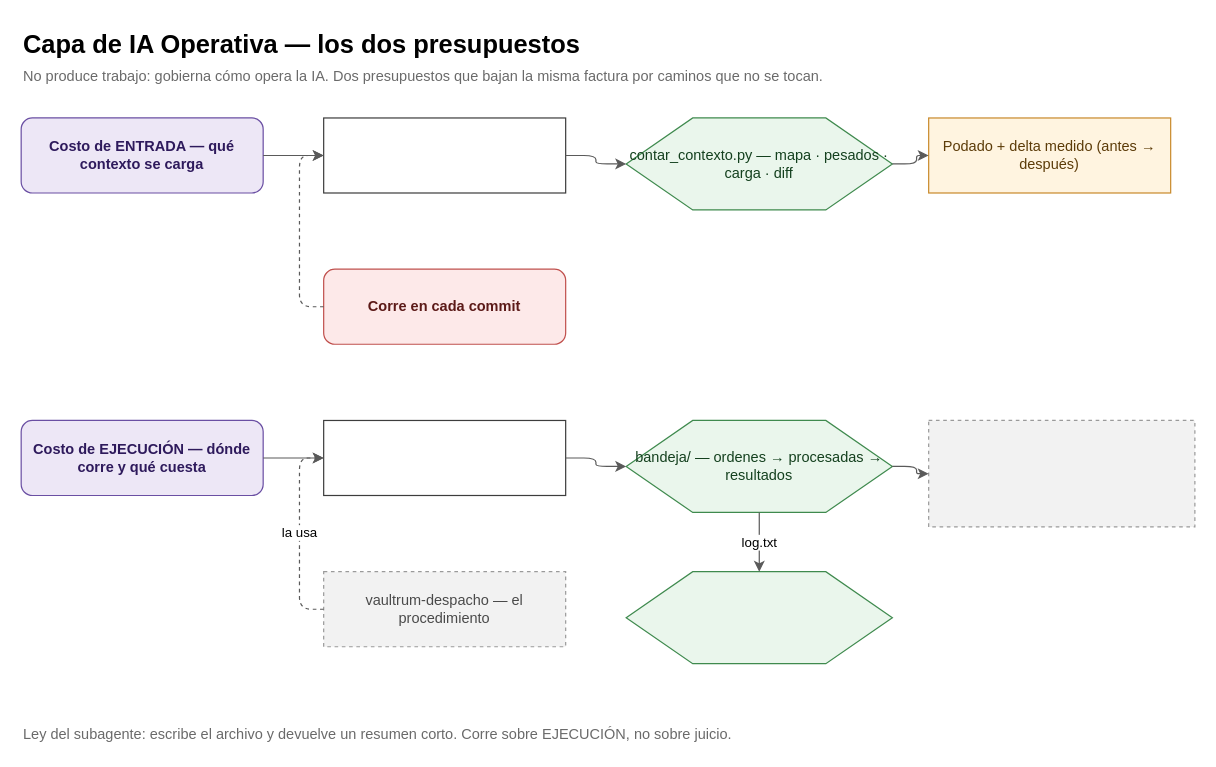
The diagram is 1216 pixels wide and 767 high, and some of its shapes have lost their labels. Here are the shapes that lost their labels. From the top down, the centre of each, then its label:
[444,155]: AiCare — Pass GC de contexto
[444,457]: 05 Despachante (agente de la Agencia)
[1061,473]: Ejecutores desde cmd: claude -p --permission-mode · codex exec - --sandbox
[758,617]: despacho.py — cuántas · a quién · cuánto · fallos
